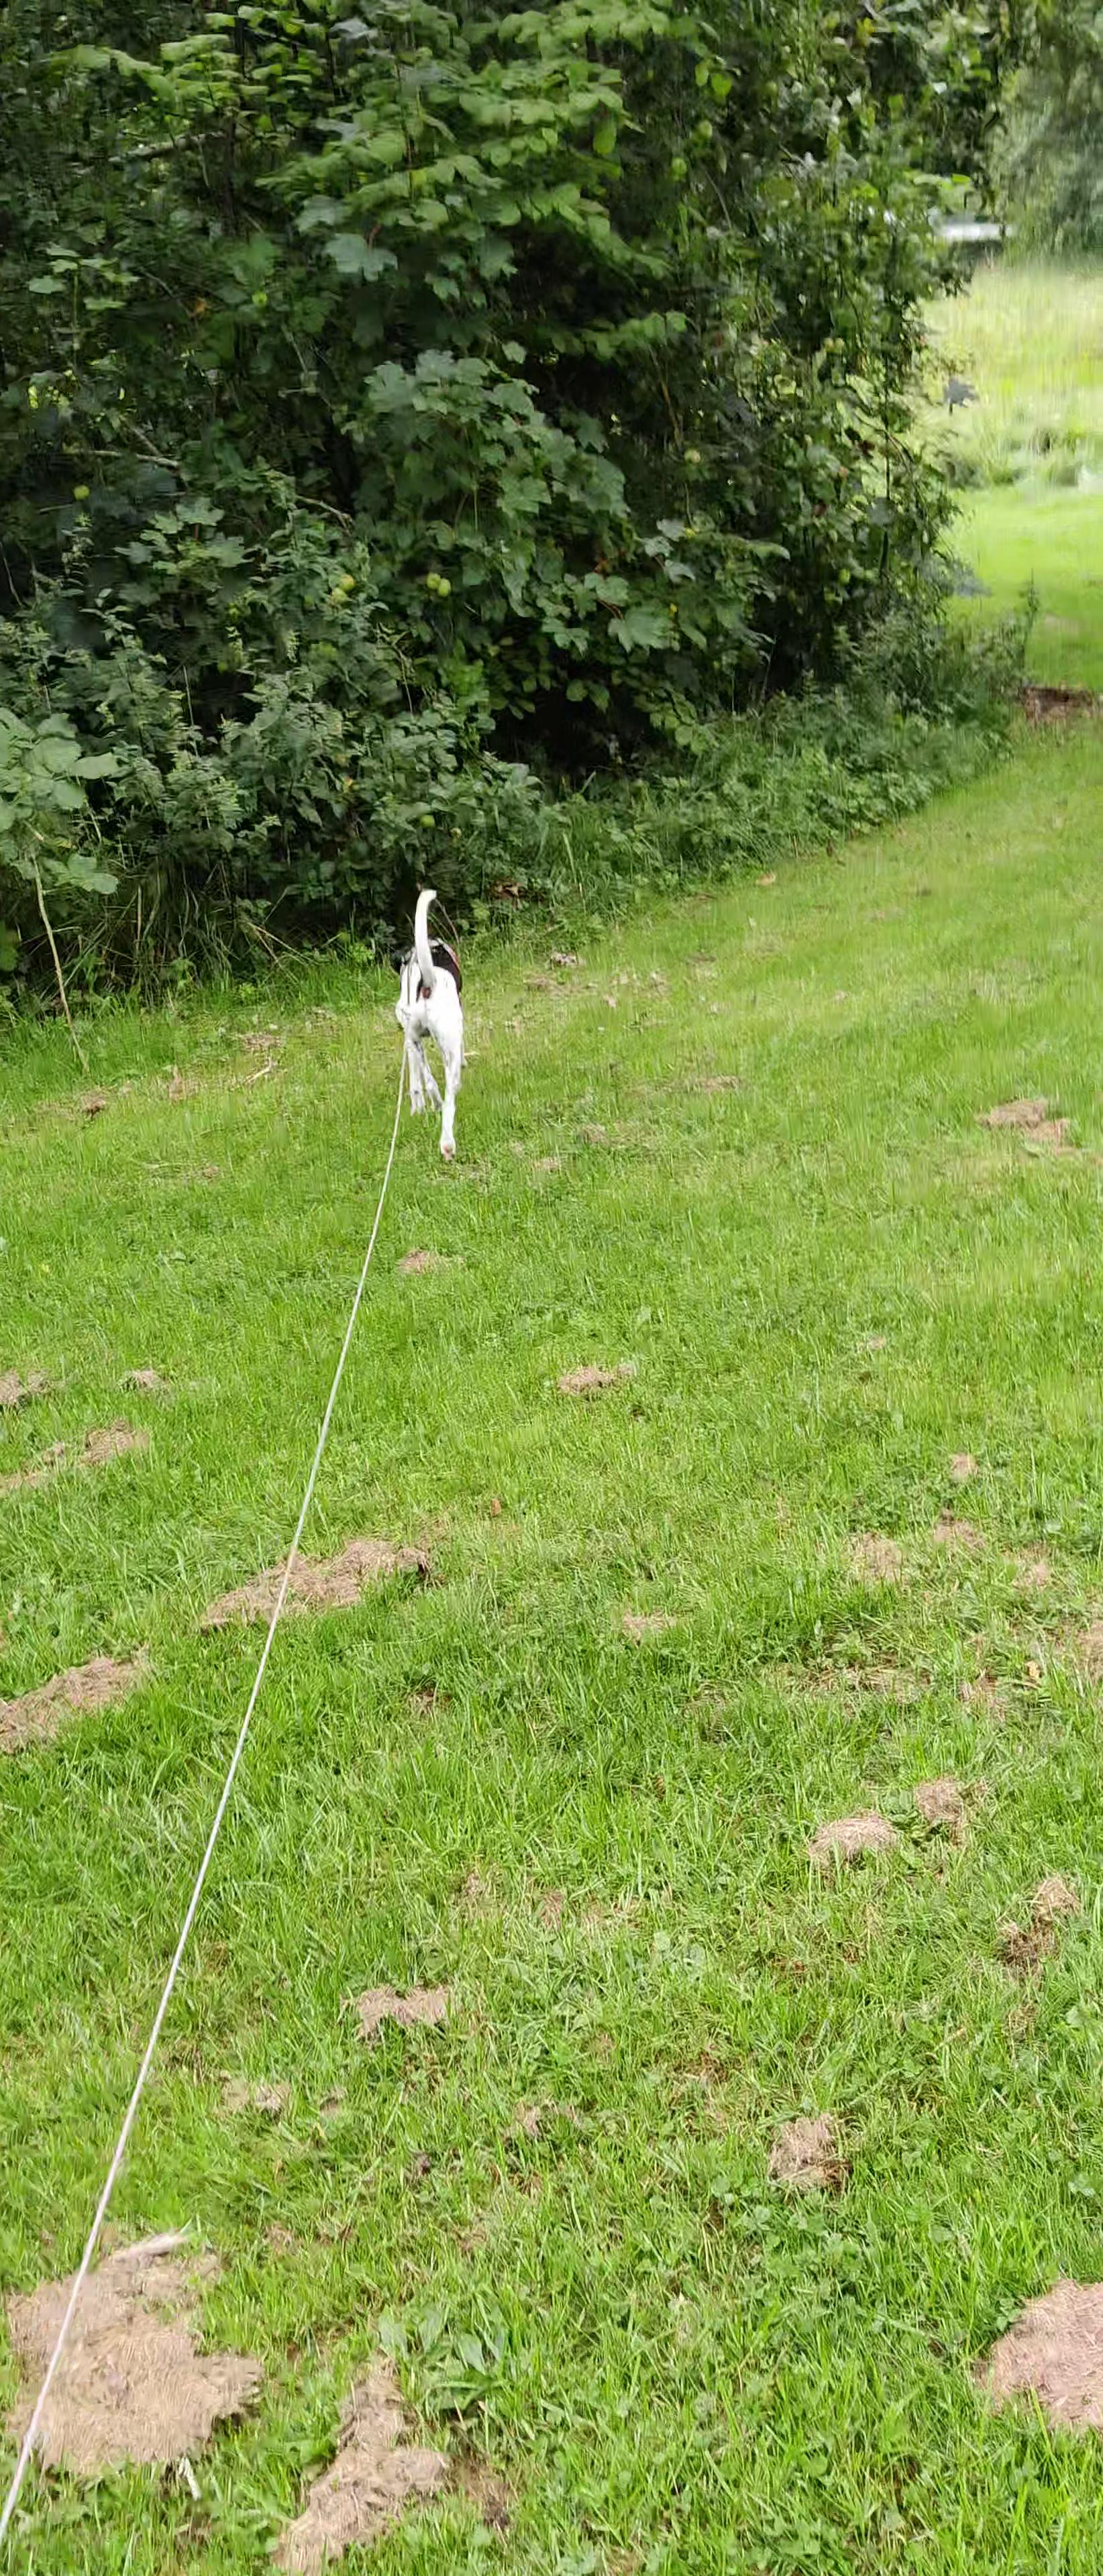Dog: (388, 881, 478, 1170)
